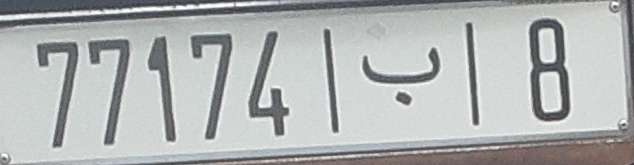1: (142, 34, 182, 146)
4: (245, 28, 292, 139)
7: (33, 38, 81, 151), (188, 31, 236, 142), (86, 35, 132, 147)
8: (524, 16, 574, 124)
b: (360, 43, 444, 108)
